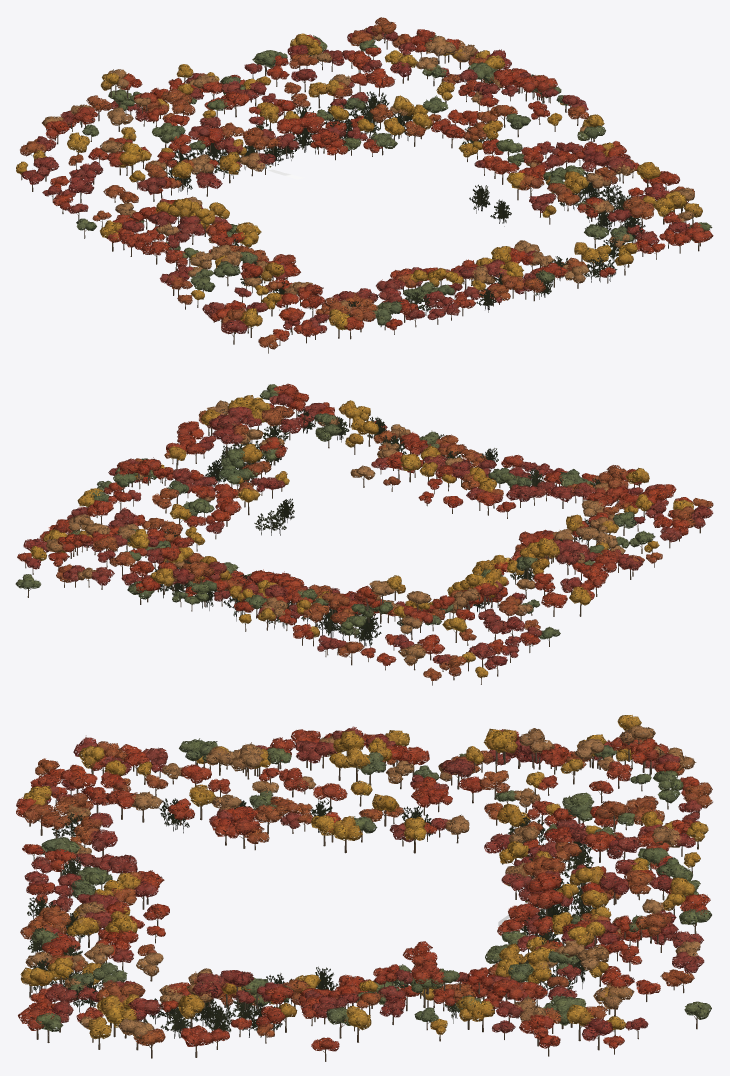
The model's file is far-terrain.gltf.
3 renders of one model, top to bottom at view 1: azimuth 30°, elevation 25°; view 2: azimuth 150°, elevation 25°; view 3: azimuth 270°, elevation 25°, orthographic. The views are drawn at different scales.
Visible parts, largest first — view 1: 산사 · 단풍 수관 (×38), grove:2:0; view 2: 산사 · 단풍 수관 (×39), grove:2:0, grove:-2:-4; view 3: 산사 · 단풍 수관 (×38), grove:3:1, grove:0:-4.
Part boxes in pixels (x1,y1,x2,y2): 산사 · 단풍 수관 (×38): [20, 17, 713, 349]; grove:2:0: [469, 184, 511, 226]; 산사 · 단풍 수관 (×39): [23, 383, 713, 680]; grove:2:0: [254, 498, 294, 535]; grove:-2:-4: [315, 605, 381, 640]; 산사 · 단풍 수관 (×38): [16, 715, 712, 1046]; grove:3:1: [192, 996, 283, 1037]; grove:0:-4: [521, 900, 602, 942].
Size of the model in its own units: 264 by 58.61 by 257.
